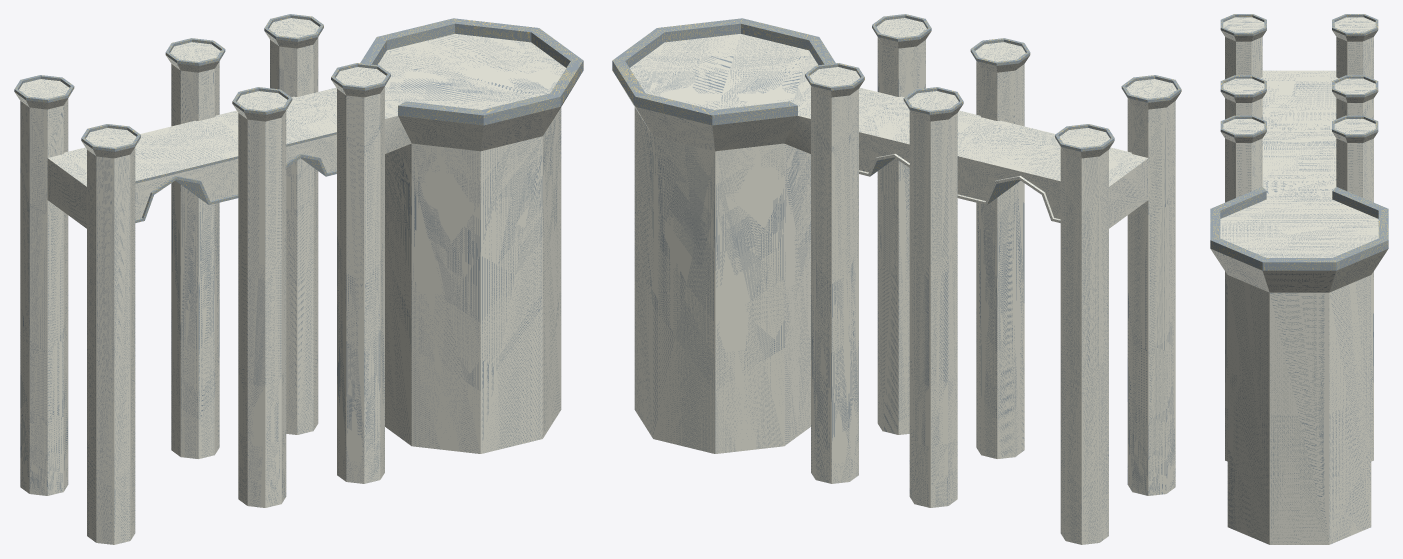
Rendered from Castle_Platform_01.fbx.
3 renders of one model, left to right at view 1: azimuth 30°, elevation 25°; view 2: azimuth 150°, elevation 25°; view 3: azimuth 270°, elevation 25°, orthographic. The views are drawn at different scales.
Parts seen in each view (by area): view 1: Model; view 2: Model; view 3: Model.
Boxes of the visible parts, <box> form: Model: <box>14,14,583,544</box>; Model: <box>612,14,1181,544</box>; Model: <box>1210,14,1388,544</box>.
Bounding box in the file's own units: 3165 × 2372 × 1156.
